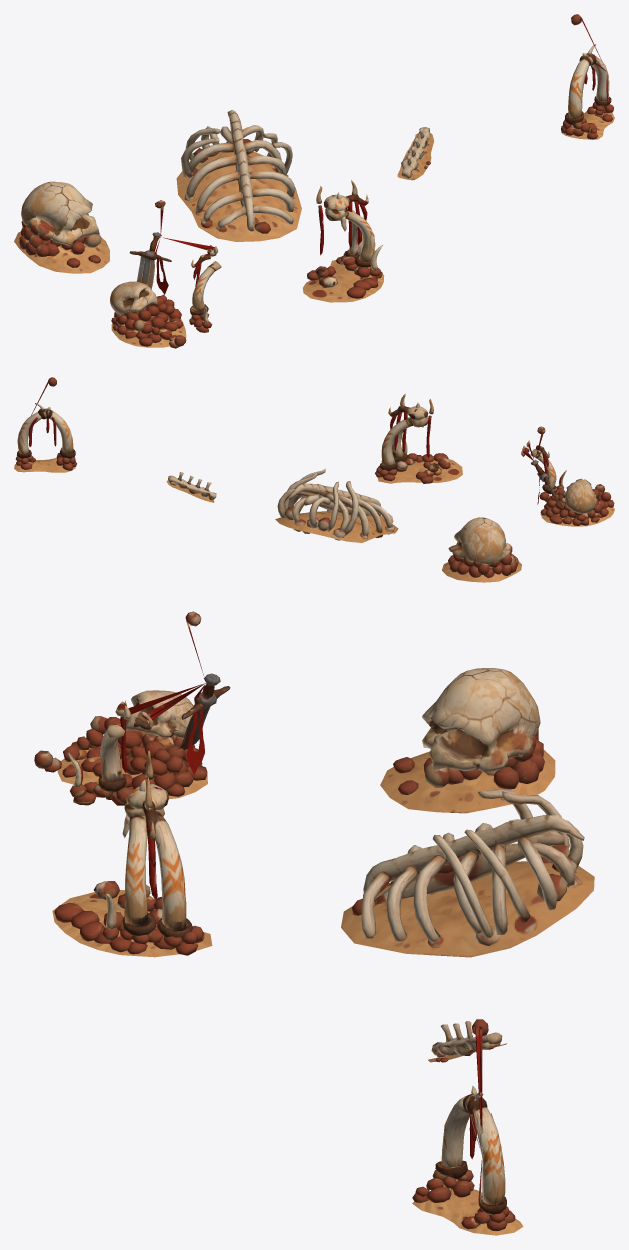
File: bones_pack_01_giant_landmarks_clean.glb
The picture shows the model from 3 angles, top to bottom: view 1: azimuth 30°, elevation 25°; view 2: azimuth 150°, elevation 25°; view 3: azimuth 270°, elevation 25°; orthographic projection. The views are drawn at different scales.
Visible parts, largest first — view 1: giant_ribs, giant_fallen, giant_skull, bone_portal, tusk_arch, giant_spine; view 2: giant_ribs, bone_portal, giant_fallen, giant_skull, tusk_arch, giant_spine; view 3: giant_ribs, giant_skull, giant_fallen, bone_portal, tusk_arch, giant_spine.
Boxes of the visible parts, x1,y1,x2,y2 form: giant_ribs: (176,110,301,241); giant_fallen: (110,200,221,348); giant_skull: (14,181,109,273); bone_portal: (302,180,384,302); tusk_arch: (561,14,614,139); giant_spine: (397,127,434,180); giant_ribs: (275,468,398,542); bone_portal: (375,393,462,483); giant_fallen: (521,426,614,526); giant_skull: (442,517,521,582); tusk_arch: (14,377,76,472); giant_spine: (166,472,216,502); giant_ribs: (341,789,594,957); giant_skull: (380,668,555,813); giant_fallen: (34,611,230,805); bone_portal: (52,750,212,957); tusk_arch: (412,1019,523,1235); giant_spine: (428,1021,506,1062).
Bounding box in the file's own units: 28.43 × 5 × 13.73.
Materials: 1 (1 with a texture image).
